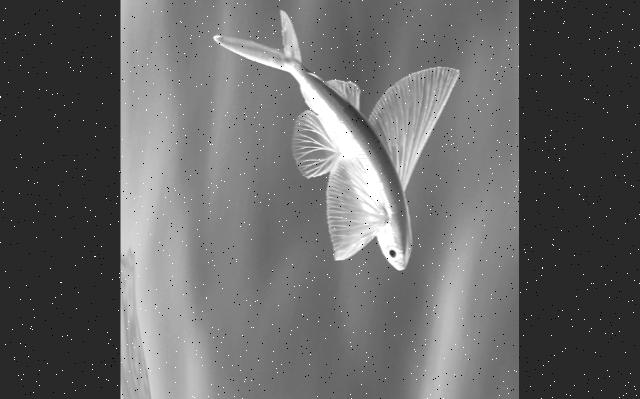Sirip Dada: (360, 54, 467, 182), (307, 154, 394, 266)
Sirip Ekor: (205, 7, 306, 78)
Sirip Perut: (280, 102, 346, 187)
Sirip Punggung: (314, 72, 366, 112)
